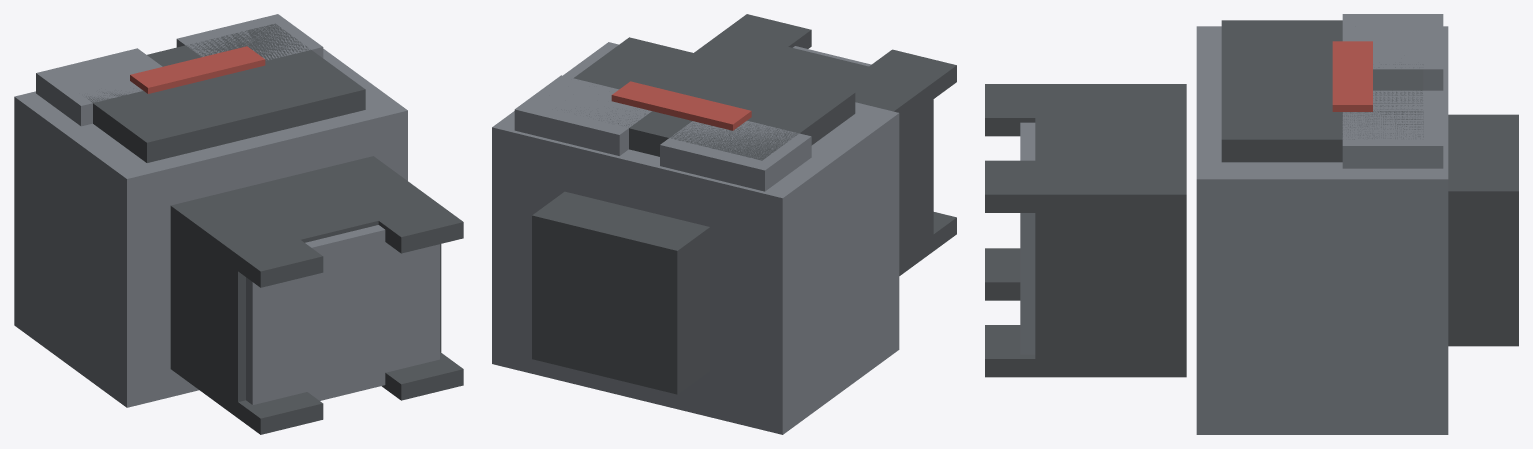
Rendered from torso-bruiser.glb.
3 views of the same model, side by side, from view 1: azimuth 30°, elevation 25°; view 2: azimuth 150°, elevation 25°; view 3: azimuth 270°, elevation 25° (orthographic). The views are drawn at different scales.
Visible parts, largest first — view 1: chest, pelvis, waist, frontarmor, pec_L, skirt_0, skirt_1, pec_R, chevron, skirt_2, skirt_3; view 2: chest, collar, frontarmor, waist, pec_L, pec_R, skirt_0, chevron, skirt_1, skirt_2; view 3: chest, waist, frontarmor, collar, pec_R, pec_L, skirt_1, skirt_0, skirt_3, chevron, pelvis, skirt_2.
Part boxes in pixels (box(x1,y1,x2,y2)): chest: box(14, 49, 407, 407); pelvis: box(246, 225, 439, 404); waist: box(170, 156, 441, 417); frontarmor: box(86, 23, 365, 162); pec_L: box(36, 48, 162, 126); skirt_0: box(220, 226, 323, 287); skirt_1: box(361, 194, 463, 253); pec_R: box(176, 14, 323, 60); chevron: box(130, 46, 265, 93); skirt_2: box(220, 390, 323, 434); skirt_3: box(381, 352, 463, 400); chest: box(492, 42, 899, 434); collar: box(532, 191, 709, 394); frontarmor: box(561, 37, 855, 160); waist: box(694, 31, 933, 275); pec_L: box(660, 121, 811, 191); pec_R: box(514, 75, 651, 155); skirt_0: box(851, 49, 956, 112); chevron: box(611, 81, 751, 130); skirt_1: box(707, 14, 811, 59); skirt_2: box(915, 212, 956, 264); chest: box(1196, 26, 1448, 434); waist: box(1035, 84, 1186, 377); frontarmor: box(1221, 20, 1423, 162); collar: box(1448, 114, 1518, 346); pec_R: box(1342, 90, 1443, 168); pec_L: box(1342, 14, 1443, 90); skirt_1: box(985, 160, 1075, 212); skirt_0: box(985, 84, 1075, 136); skirt_3: box(985, 325, 1075, 377); chevron: box(1332, 41, 1372, 111); pelvis: box(1020, 122, 1035, 354); skirt_2: box(985, 248, 1020, 300).
Bounding box in the file's own units: 0.72 × 0.625 × 1.06.
